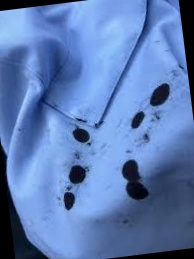ink: (121, 159, 149, 202), (148, 84, 170, 106), (67, 165, 87, 184), (62, 190, 76, 213), (72, 126, 89, 144), (131, 111, 146, 128)
